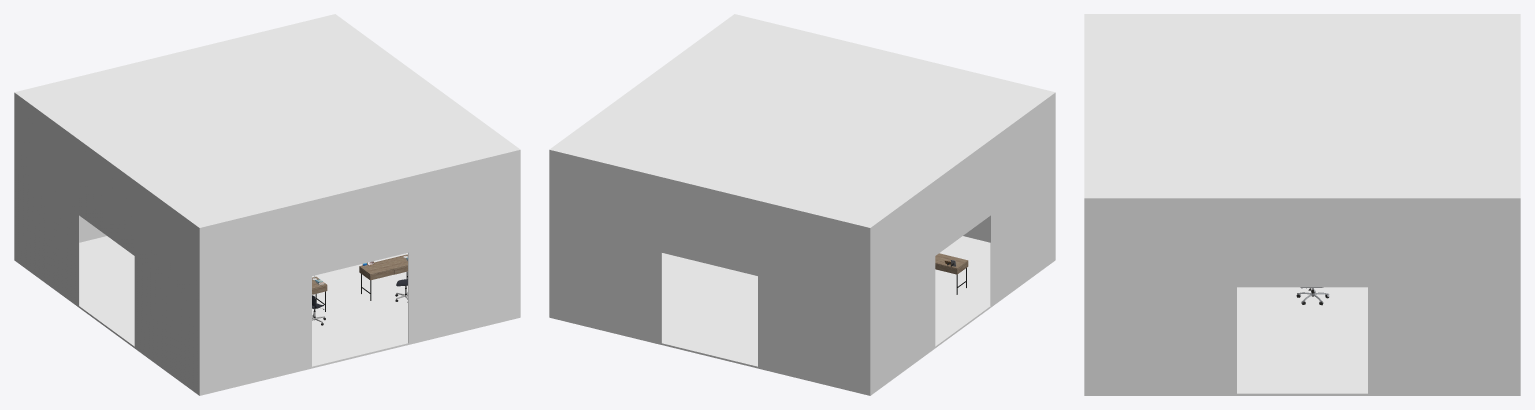
The model's file is Level1_Room4.glb.
3 renders of one model, left to right at view 1: azimuth 30°, elevation 25°; view 2: azimuth 150°, elevation 25°; view 3: azimuth 270°, elevation 25°, orthographic. The views are drawn at different scales.
Parts seen in each view (by area): view 1: Cube copy copy copy (×3), Cube copy copy (×3), Cube, Cube copy, Desk_Desk_0; view 2: Cube copy copy copy (×2), Cube copy copy copy copy (×2), Cube copy copy (×2), Cube, Cube copy, Desk_Desk_0 copy copy; view 3: Cube copy copy copy (×3), Cube copy copy, Cube.
Part boxes in pixels (<box>): Cube copy copy copy (×3): <box>15,14,520,395</box>; Cube copy copy (×3): <box>14,93,520,395</box>; Cube: <box>14,236,408,395</box>; Cube copy: <box>14,92,199,303</box>; Desk_Desk_0: <box>359,254,407,300</box>; Cube copy copy copy (×2): <box>549,14,1054,303</box>; Cube copy copy copy copy (×2): <box>549,150,870,395</box>; Cube copy copy (×2): <box>870,93,1055,394</box>; Cube: <box>661,236,1055,395</box>; Cube copy: <box>870,92,1055,303</box>; Desk_Desk_0 copy copy: <box>935,253,968,294</box>; Cube copy copy copy (×3): <box>1084,14,1520,395</box>; Cube copy copy: <box>1084,198,1520,287</box>; Cube: <box>1237,287,1367,395</box>.
Size of what is drawn, in the model's own units: 10 by 5.15 by 10.01.
48 materials, 34 textured.
